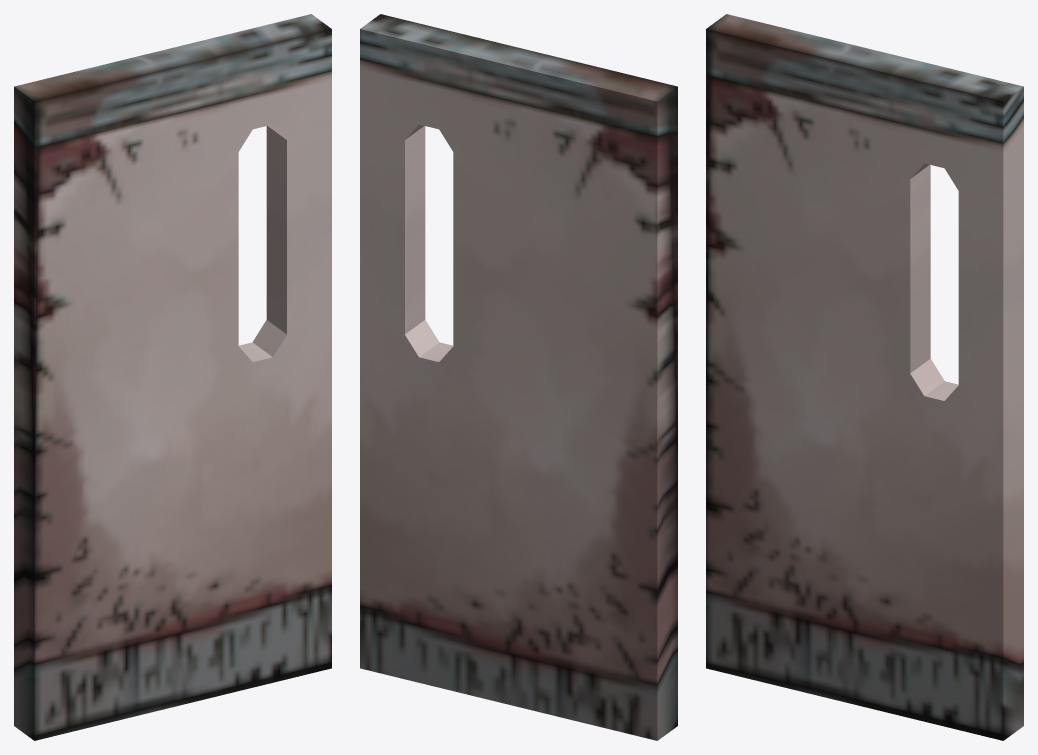
Rendered from CounterDoorL.fbx.
3 views of the same model, side by side, from view 1: azimuth 30°, elevation 25°; view 2: azimuth 150°, elevation 25°; view 3: azimuth 330°, elevation 25° (orthographic).
Visible parts, largest first — view 1: CounterDoorL; view 2: CounterDoorL; view 3: CounterDoorL.
Part boxes in pixels (left/top/right/bottom): CounterDoorL: left=14, top=14, right=331, bottom=740; CounterDoorL: left=360, top=14, right=677, bottom=740; CounterDoorL: left=706, top=14, right=1023, bottom=740.
Bounding box in the file's own units: 30.46 × 62.57 × 3.63.
